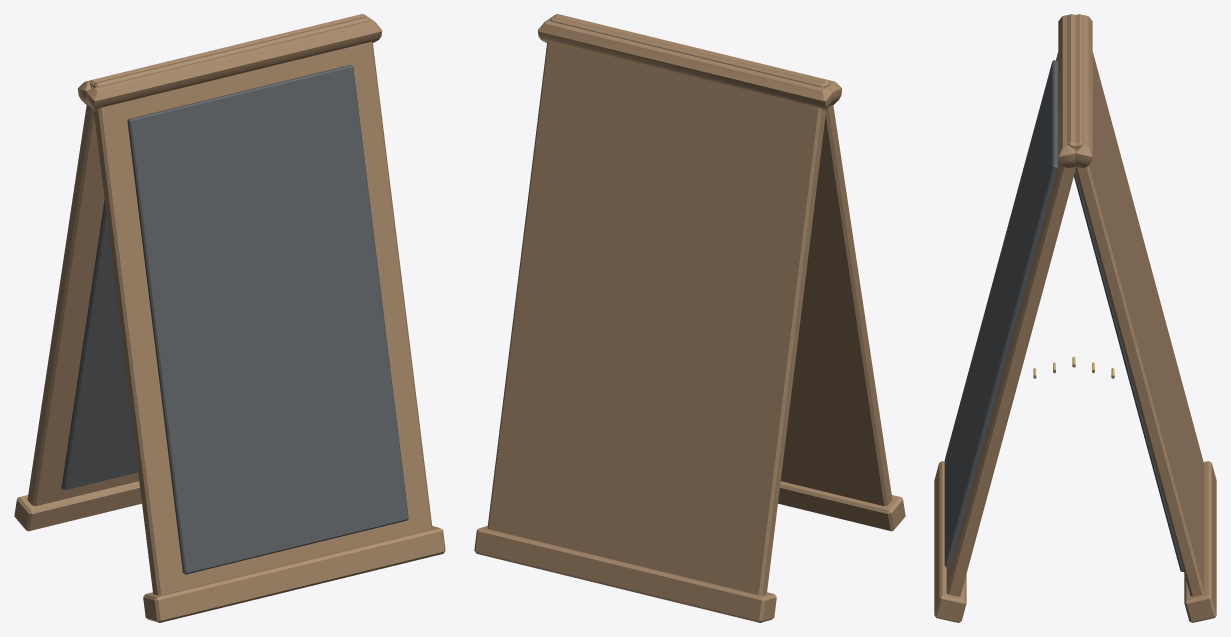
File: bar-pub-and-brewery-taproom-floor-standing-menu-1e52c0ce__18421.glb
3 renders of one model, left to right at view 1: azimuth 30°, elevation 25°; view 2: azimuth 150°, elevation 25°; view 3: azimuth 270°, elevation 25°, orthographic. The views are drawn at different scales.
Visible parts, largest first — view 1: floor-standing-menu; view 2: floor-standing-menu; view 3: floor-standing-menu.
Part boxes in pixels (left/top/right/bottom): floor-standing-menu: left=14, top=14, right=445, bottom=622; floor-standing-menu: left=474, top=14, right=905, bottom=622; floor-standing-menu: left=934, top=14, right=1216, bottom=622.
Size of the model in its own units: 0.63 by 1.03 by 0.5503.
